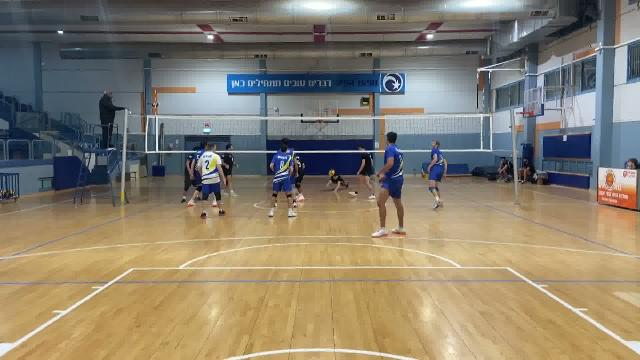ball: (327, 167, 338, 179)
